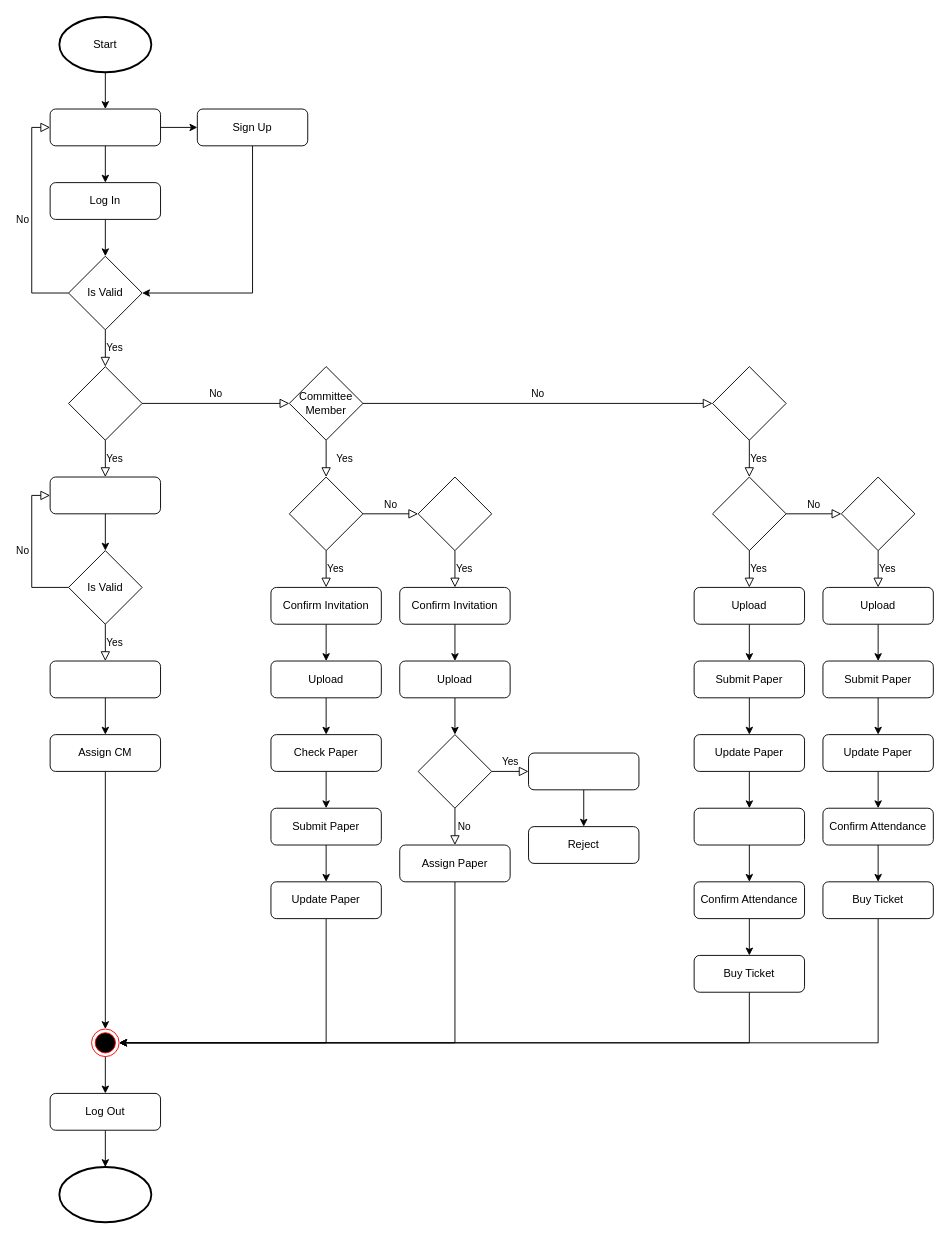
Image size: 949x1238. Some labels were removed from this diagram. Each missing label, with the box of its shape:
Add new CM: (49, 660, 161, 698)
Chair/ Co-Chair: (417, 476, 492, 551)
Create Conference: (49, 476, 161, 514)
End: (58, 1166, 152, 1223)
Manage: (49, 108, 161, 146)
Paper Rejected: (417, 734, 492, 808)
PC Member: (288, 476, 363, 551)
Publisher: (712, 476, 786, 551)
Reassign Paper: (528, 752, 639, 790)
Regular User: (840, 476, 915, 551)
Steering Committee: (68, 366, 142, 440)
User: (712, 366, 786, 440)
View Reviews: (693, 807, 805, 845)
